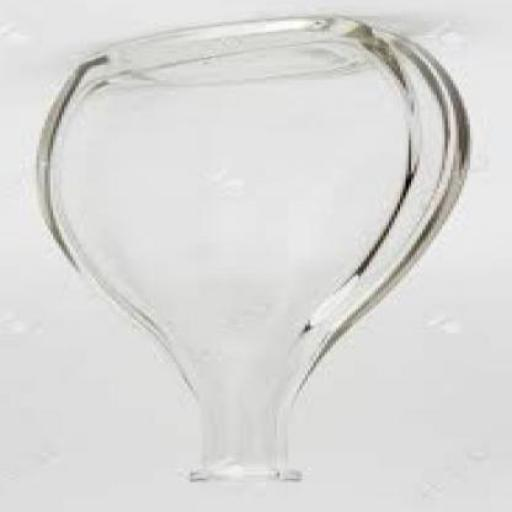glass: (40, 18, 472, 484)
